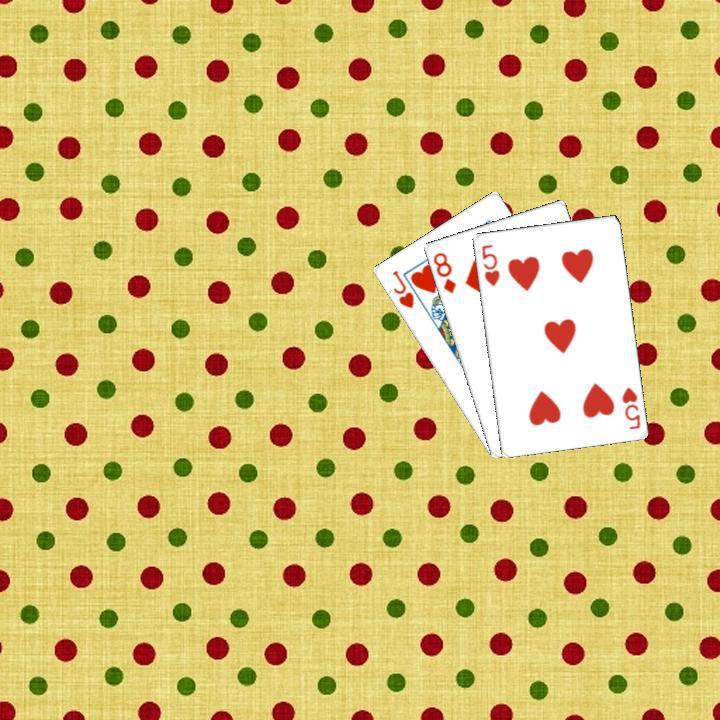5: (617, 382, 642, 431), (477, 239, 501, 288)
8: (428, 248, 458, 295)
J: (388, 266, 416, 310)
